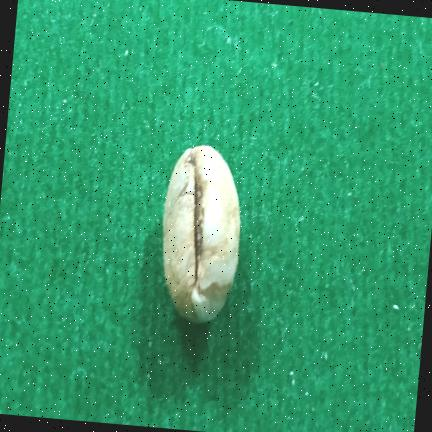good: (163, 146, 240, 323)
